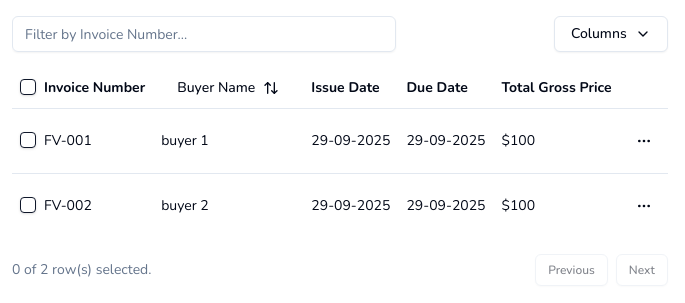
Test: InvoicesTable sad paths › shows empty after filtering unmatched invoice
This screenshot has width=685, height=303.
Type "XYZ" into the field with placeholder "Filter by Invoice Number...".
click(204, 34); type("XYZ")  # box [12,16,396,52]
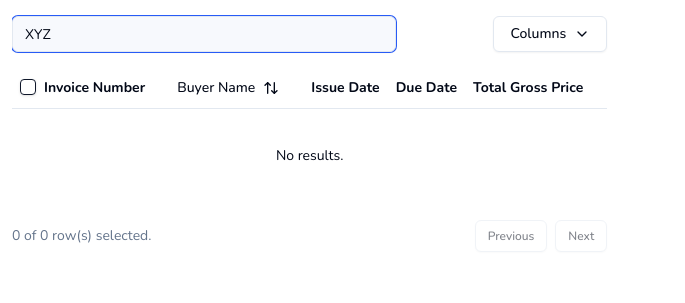
Check: the text "No results." is shown, box [12,108,607,204]
